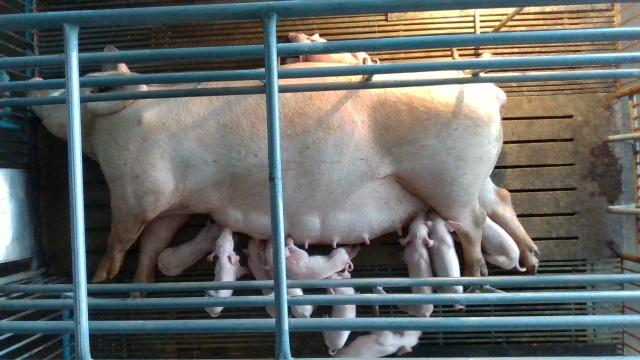piglet: (203, 225, 251, 316), (264, 235, 361, 280), (397, 210, 435, 318), (156, 217, 223, 276), (425, 210, 464, 305), (321, 271, 357, 354), (287, 32, 380, 64), (243, 238, 276, 319), (482, 217, 526, 272), (335, 330, 422, 357)
sow-sleep-lactate: (24, 42, 541, 300)
